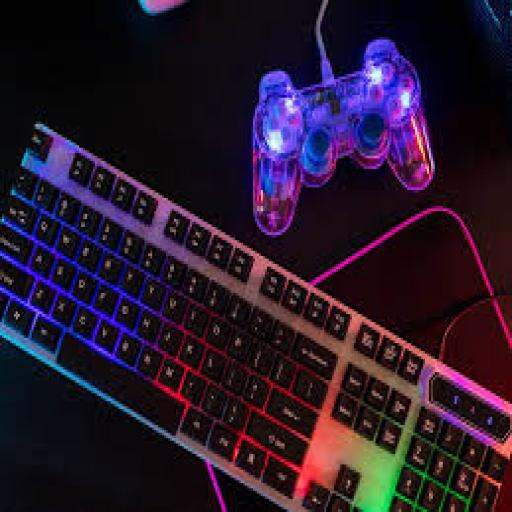KEYBOARD-2: (2, 124, 510, 509)
